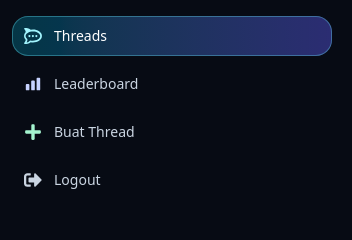
Test: Navigation Component › Should navigate to / page when new thread button clicked
Click the link "Buat Thread" at (79, 132), box [24,122,135,141]
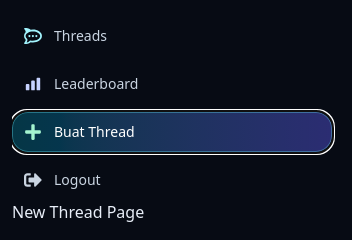
Now the text "New Thread Page" is shown, box [12,201,144,223]
